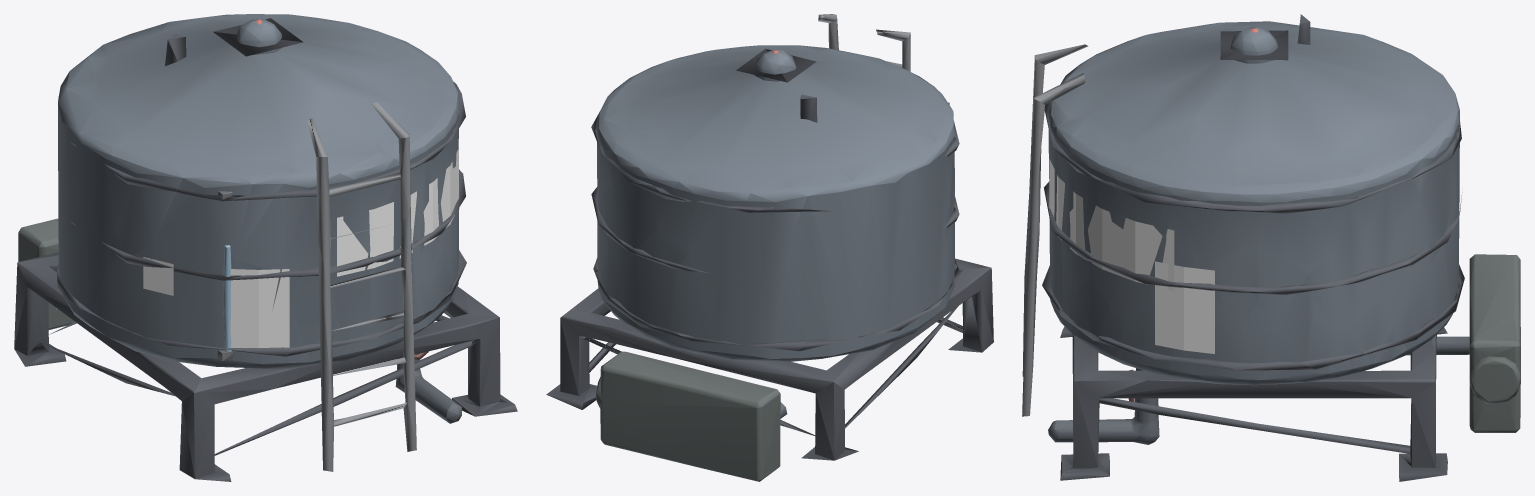
The model's file is reservoir_haut.glb.
The picture shows the model from 3 angles, left to right: view 1: azimuth 30°, elevation 25°; view 2: azimuth 150°, elevation 25°; view 3: azimuth 270°, elevation 25°; orthographic projection. The views are drawn at different scales.
Visible parts, largest first — view 1: reservoir_haut, reservoir_haut_decal, reservoir_haut_glowlit; view 2: reservoir_haut; view 3: reservoir_haut, reservoir_haut_decal.
Boxes of the visible parts, x1,y1,x2,y2 form: reservoir_haut: (14, 14, 517, 481); reservoir_haut_decal: (56, 148, 458, 350); reservoir_haut_glowlit: (223, 245, 231, 352); reservoir_haut: (546, 14, 993, 481); reservoir_haut: (1022, 14, 1520, 481); reservoir_haut_decal: (1049, 159, 1214, 353).
Size of the model in its own units: 1.66 by 1.61 by 1.95.
